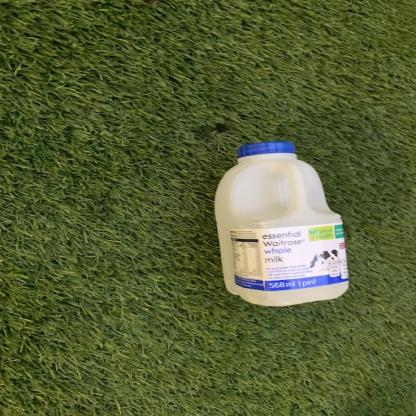trash: (213, 140, 354, 310)
